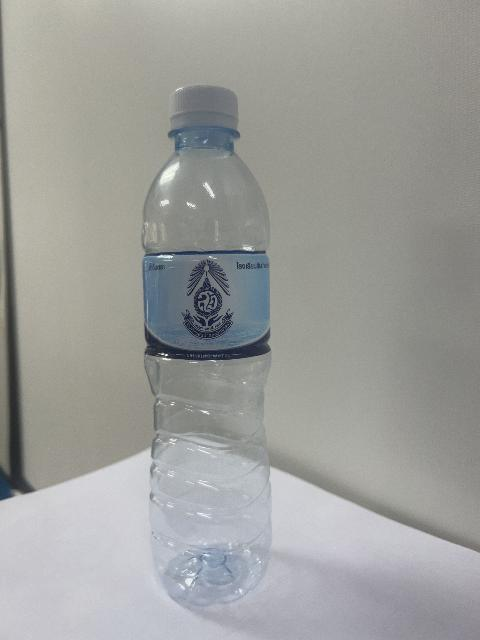bottle: (143, 86, 271, 604)
